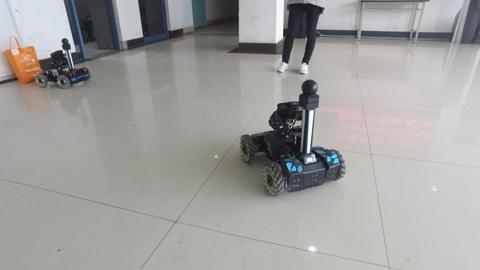bag: (5, 35, 46, 86)
chariot: (237, 78, 345, 198), (34, 37, 90, 89)
